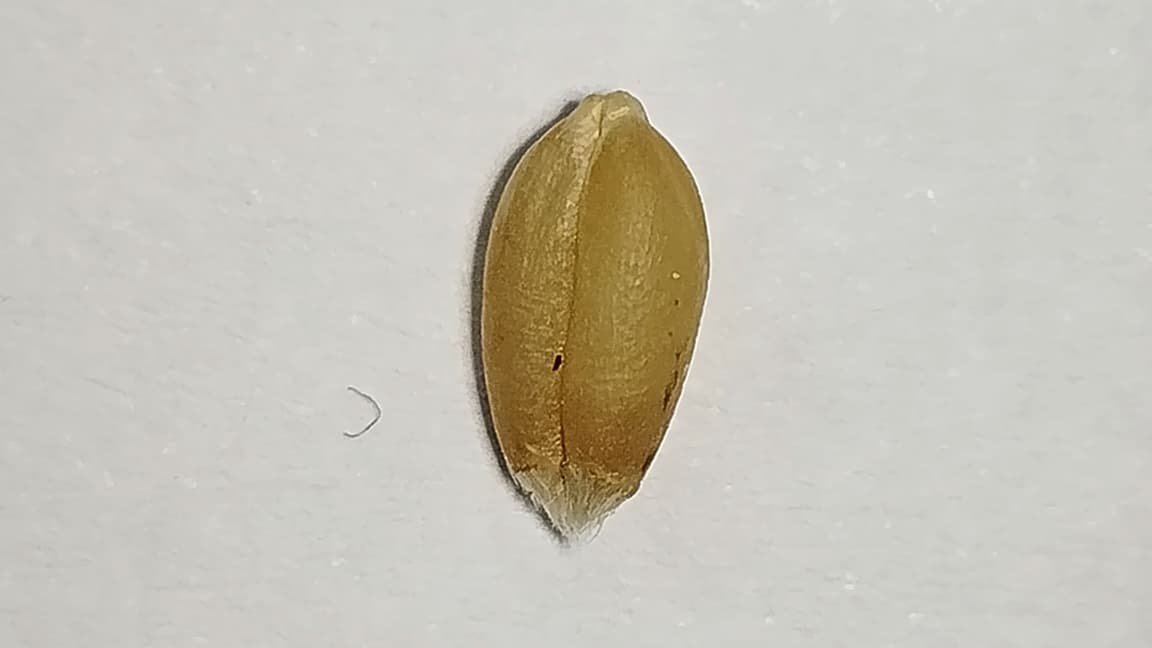healthy: (472, 91, 708, 500)
